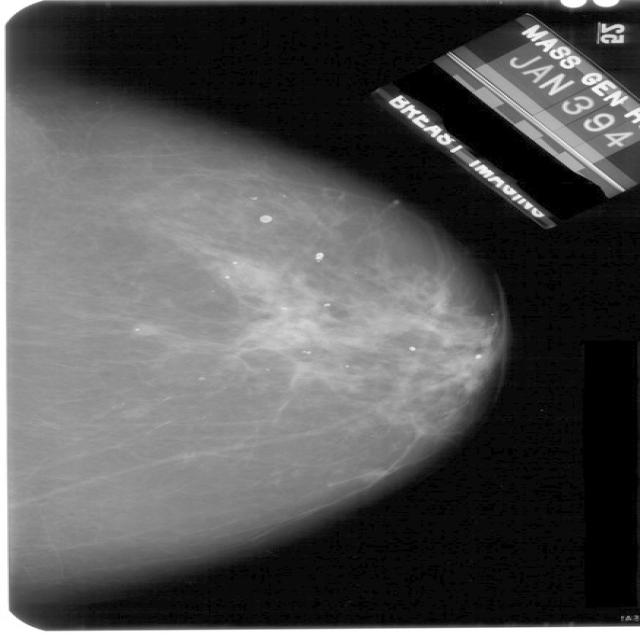tumour: (132, 322, 160, 337)
